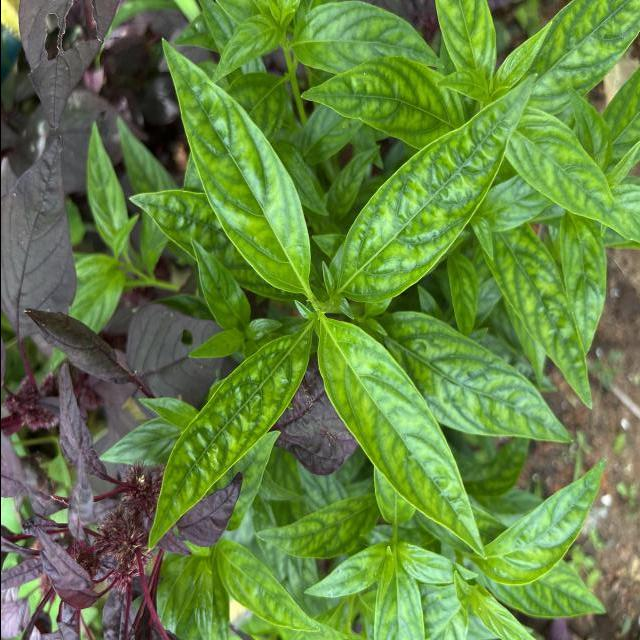Andrographis paniculata: (332, 70, 538, 306), (314, 314, 488, 562), (142, 314, 316, 554), (158, 36, 314, 296), (380, 308, 574, 445), (480, 224, 592, 413), (468, 456, 608, 588), (501, 107, 633, 244), (296, 54, 472, 152), (289, 0, 444, 76), (216, 540, 321, 634), (251, 492, 379, 560), (302, 540, 388, 599)
